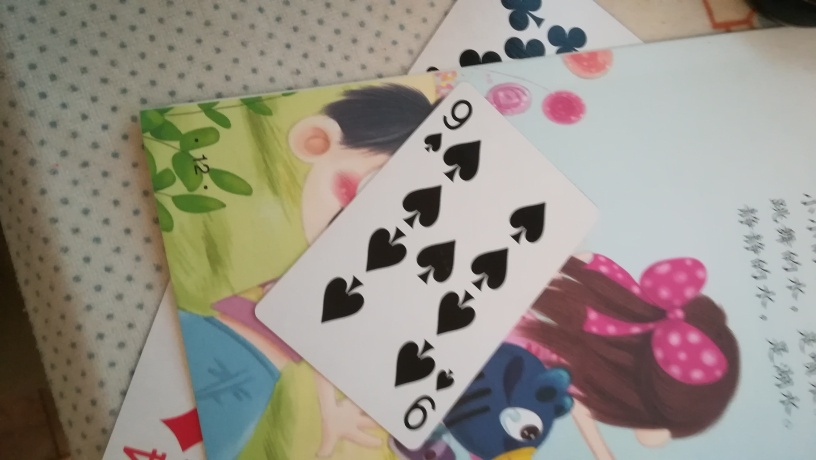ht 9: (252, 80, 599, 453)
